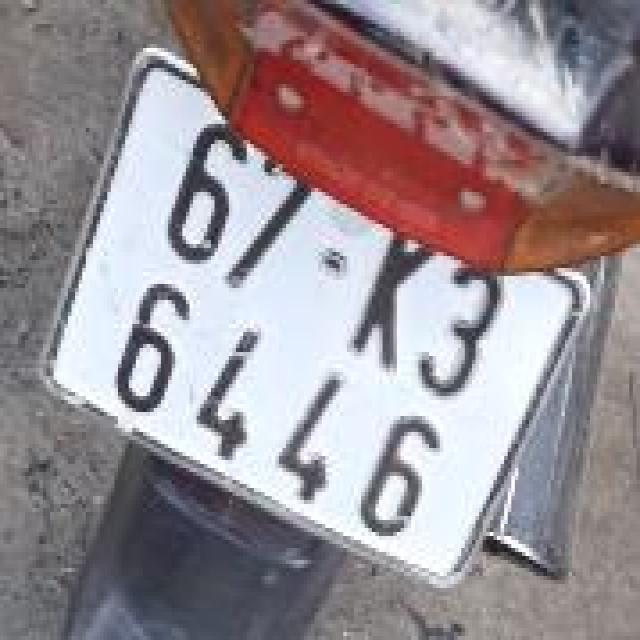3: (407, 247, 525, 420)
4: (262, 356, 377, 516), (184, 311, 299, 469)
6: (96, 264, 208, 431), (153, 113, 264, 276), (346, 402, 457, 553)
7: (210, 133, 327, 313)
K: (340, 220, 450, 382)
